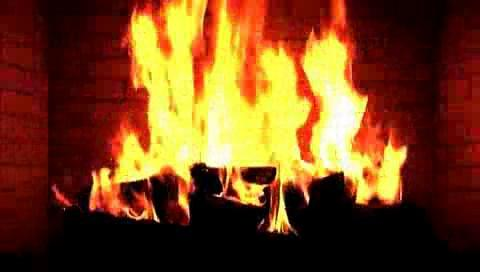fire: (79, 0, 479, 233)
